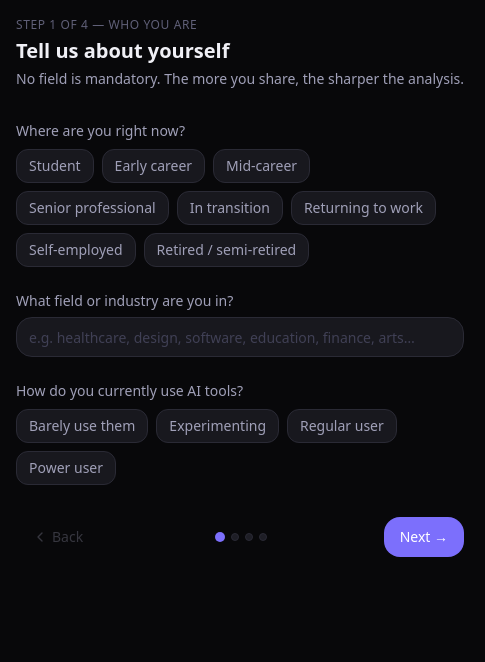
Test: QuestionnaireScreen › navigates through all four steps
This screenshot has width=485, height=662.
Click the button "Next →": (424,537) [384,517,464,557]
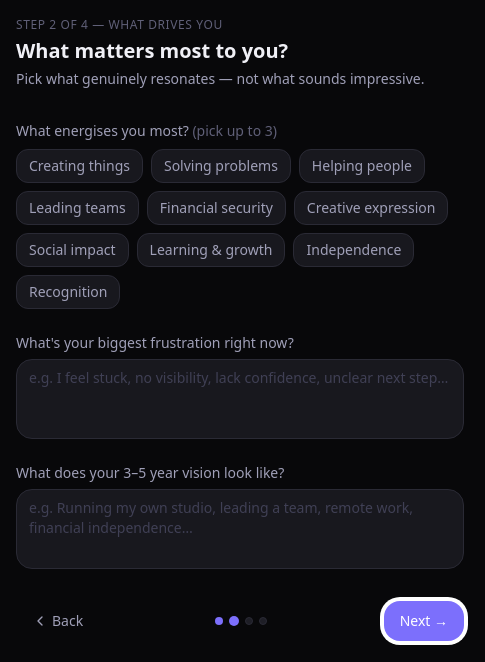
Expected: the text "Step 2 of 4 — what drives you" is shown, [16,16,223,33]
Click the button "Next →": (424,621) [384,601,464,641]
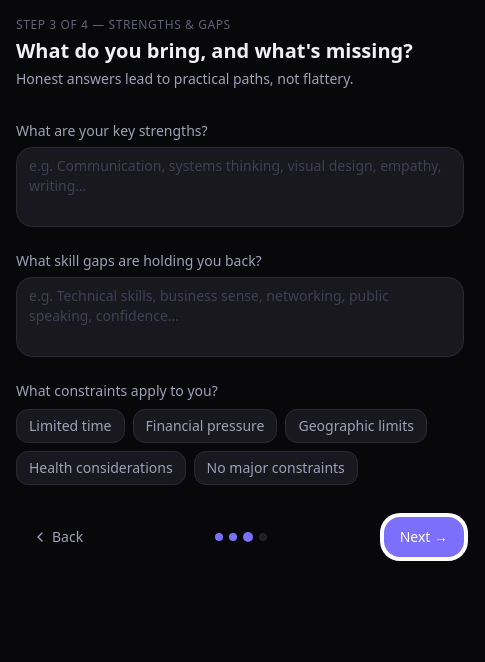
Expected: the text "Step 3 of 4 — strengths & gaps" is shown, [16,16,231,33]
Click the button "Next →": (424,537) [384,517,464,557]
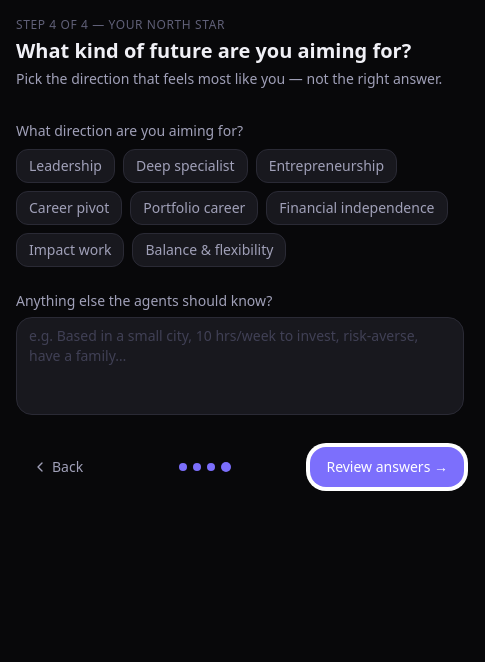
Expected: the text "Step 4 of 4 — your north star" is shown, [16,16,225,33]
